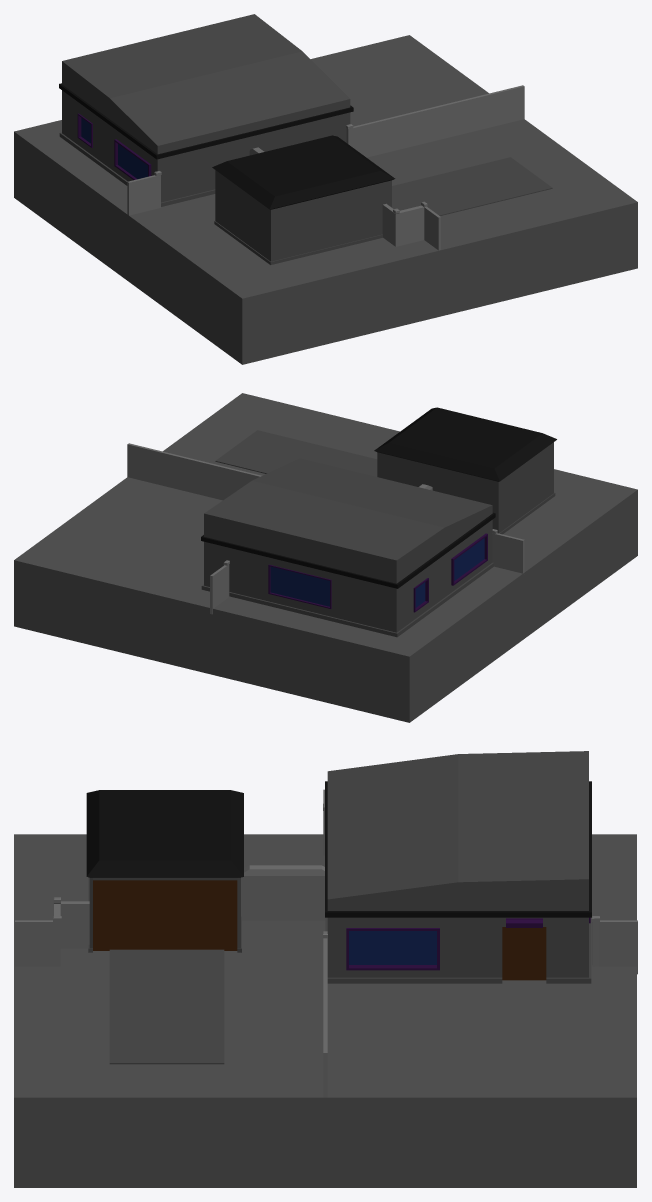
The model's file is HouseTwo.fbx.
The picture shows the model from 3 angles, top to bottom: view 1: azimuth 30°, elevation 25°; view 2: azimuth 150°, elevation 25°; view 3: azimuth 270°, elevation 25°; orthographic projection. The views are drawn at different scales.
Visible parts, largest first — view 1: Plane, WallR.006, Road, WallL.001, WallR.007; view 2: Plane, WallR.006, Road, WallR.007, WallR.001; view 3: Plane, Road, WallMiddle, WallL.001, WallR.001, WallR.006.
Part boxes in pixels (box(x1,y1,x2,y2)): Plane: box(14, 14, 637, 364); WallR.006: box(346, 85, 524, 157); Road: box(392, 157, 552, 215); WallL.001: box(382, 201, 440, 250); WallR.007: box(127, 171, 161, 215); Plane: box(14, 393, 637, 722); WallR.006: box(127, 443, 261, 500); Road: box(215, 430, 377, 476); WallR.007: box(492, 529, 524, 573); WallR.001: box(210, 560, 229, 614); Plane: box(14, 751, 636, 1187); Road: box(109, 949, 224, 1064); WallMiddle: box(241, 865, 325, 920); WallL.001: box(15, 897, 89, 966); WallR.001: box(591, 916, 637, 974); WallR.006: box(323, 931, 327, 1097).
Bounding box in the file's own units: 3756 × 3750 × 1288.
